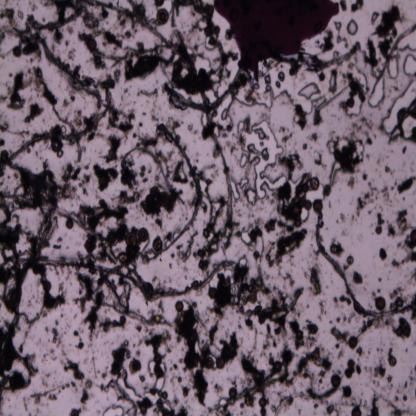Air bubble: (235, 113, 290, 201), (379, 78, 416, 132), (353, 48, 377, 89), (367, 75, 387, 109), (298, 82, 320, 100), (386, 53, 400, 80), (401, 53, 416, 77), (328, 160, 341, 185), (253, 126, 269, 140), (329, 69, 339, 91), (230, 179, 241, 198), (245, 188, 257, 204), (346, 19, 358, 35), (147, 358, 156, 377), (240, 232, 251, 246), (300, 206, 310, 221), (155, 376, 165, 391), (276, 69, 286, 83), (220, 108, 230, 121), (262, 148, 270, 163), (240, 151, 247, 168), (370, 11, 379, 24), (238, 255, 247, 266), (334, 20, 342, 31), (218, 398, 228, 406), (264, 75, 272, 84), (336, 36, 344, 43)
Background material: (0, 212, 66, 330), (0, 146, 67, 227), (96, 236, 155, 316), (165, 25, 218, 102), (172, 300, 216, 372), (0, 330, 39, 390), (0, 64, 51, 109), (263, 365, 308, 416), (101, 77, 137, 136), (233, 263, 276, 312), (120, 42, 170, 82), (70, 200, 133, 228), (168, 0, 217, 35), (194, 218, 235, 258), (267, 227, 308, 267), (138, 187, 184, 221), (244, 296, 290, 329), (77, 25, 109, 72), (234, 58, 266, 105), (292, 344, 335, 378), (237, 348, 268, 395), (154, 120, 188, 161), (82, 289, 107, 344), (372, 2, 407, 38), (390, 99, 416, 144), (107, 378, 136, 416), (209, 36, 233, 80), (212, 271, 234, 318), (333, 142, 365, 174), (109, 336, 132, 380), (72, 272, 96, 314), (174, 226, 202, 260), (384, 206, 413, 238), (379, 393, 416, 416), (391, 235, 416, 269), (356, 180, 378, 217), (91, 162, 118, 192), (0, 3, 18, 47), (336, 40, 364, 68), (80, 7, 105, 38), (302, 266, 324, 296), (263, 322, 290, 346), (192, 368, 210, 404), (168, 160, 190, 189), (30, 383, 60, 404), (100, 29, 125, 54), (118, 160, 138, 191), (131, 130, 160, 151), (361, 36, 380, 68), (60, 356, 85, 380), (21, 100, 48, 122), (70, 254, 98, 275), (232, 120, 249, 154), (222, 331, 240, 363), (304, 384, 336, 402), (137, 105, 160, 129), (83, 113, 105, 138), (45, 0, 79, 16), (263, 217, 295, 234), (287, 284, 304, 316), (102, 134, 121, 162), (43, 289, 66, 312), (143, 332, 165, 356), (367, 385, 384, 416), (0, 120, 29, 138), (106, 223, 132, 242), (314, 30, 336, 52), (156, 396, 180, 416), (23, 309, 47, 329), (292, 102, 309, 130), (181, 116, 199, 140), (394, 316, 412, 339), (131, 0, 150, 21), (59, 186, 81, 204), (378, 36, 396, 57), (135, 394, 152, 416), (98, 318, 121, 334), (77, 173, 92, 197), (62, 161, 79, 182), (329, 327, 351, 343), (280, 343, 296, 365), (200, 164, 219, 182), (273, 198, 292, 216), (328, 127, 341, 153), (84, 231, 100, 252), (163, 327, 175, 354), (22, 45, 41, 62), (397, 177, 416, 194), (262, 84, 278, 104), (380, 185, 394, 206), (303, 332, 320, 349), (100, 404, 124, 416), (0, 374, 8, 409), (371, 319, 394, 331), (373, 361, 387, 380), (303, 367, 317, 386), (136, 87, 160, 98), (208, 320, 219, 344), (89, 353, 99, 379), (317, 299, 328, 322), (356, 117, 374, 131), (312, 106, 324, 127), (213, 404, 234, 416), (387, 285, 403, 300), (50, 234, 64, 251), (152, 363, 167, 378), (141, 164, 152, 184), (78, 385, 89, 405), (199, 258, 211, 276), (120, 26, 135, 40), (218, 124, 233, 138), (70, 78, 82, 95), (383, 374, 394, 392), (53, 30, 65, 46), (253, 326, 261, 350), (66, 46, 78, 62), (406, 268, 416, 287), (110, 65, 121, 82), (410, 291, 416, 322), (320, 184, 333, 198), (243, 204, 256, 218), (282, 273, 295, 287), (350, 0, 364, 13), (336, 240, 346, 258), (334, 396, 349, 408), (374, 211, 385, 227), (378, 245, 388, 262), (314, 152, 326, 166), (357, 321, 369, 335), (352, 270, 364, 284), (289, 319, 300, 334), (339, 294, 352, 306), (342, 312, 354, 325), (349, 396, 363, 407), (62, 96, 76, 107), (52, 325, 60, 344), (41, 372, 52, 385), (170, 364, 177, 384), (156, 300, 166, 314), (302, 318, 312, 332), (353, 359, 362, 374), (180, 385, 191, 397), (245, 395, 255, 408), (347, 174, 355, 190), (99, 6, 108, 20), (59, 324, 70, 335), (366, 132, 374, 147), (172, 392, 180, 407), (68, 408, 83, 416), (16, 6, 26, 18), (102, 363, 110, 378), (338, 0, 348, 12), (156, 214, 164, 228), (310, 131, 320, 142), (214, 383, 224, 394), (312, 247, 322, 258), (389, 302, 400, 312), (361, 365, 373, 374), (122, 84, 130, 97), (410, 126, 416, 143), (256, 219, 262, 236), (178, 407, 189, 416), (30, 1, 39, 12), (295, 340, 304, 351), (407, 368, 414, 382), (387, 344, 394, 358), (23, 401, 30, 415), (362, 398, 368, 414), (356, 231, 364, 243), (97, 380, 105, 392), (46, 392, 58, 400), (232, 374, 239, 387), (333, 295, 340, 308), (60, 382, 70, 391), (400, 143, 408, 154), (331, 408, 342, 416), (174, 333, 182, 344), (73, 342, 84, 350), (301, 141, 310, 150), (340, 102, 348, 112), (70, 380, 78, 390), (386, 165, 396, 173), (317, 370, 327, 378), (56, 284, 66, 292), (396, 381, 402, 394), (337, 348, 344, 359), (56, 336, 63, 347), (61, 344, 67, 356), (358, 346, 364, 358), (340, 212, 346, 224), (350, 213, 357, 223), (236, 208, 243, 218), (344, 36, 349, 49), (206, 406, 214, 414), (333, 316, 341, 324), (195, 152, 200, 164), (367, 345, 372, 357), (403, 379, 409, 389), (67, 27, 74, 35), (136, 324, 143, 332), (377, 346, 384, 354), (62, 39, 69, 47), (152, 274, 158, 283), (73, 329, 79, 338), (340, 230, 350, 235), (236, 323, 243, 330), (181, 365, 188, 372), (343, 264, 350, 271), (376, 276, 383, 283), (376, 286, 382, 294), (44, 325, 49, 334), (42, 353, 47, 362), (392, 396, 399, 402), (54, 319, 60, 326), (40, 16, 46, 23), (313, 403, 320, 409), (373, 132, 378, 140), (327, 201, 332, 209), (370, 290, 376, 296), (139, 376, 145, 382), (0, 140, 6, 146), (365, 174, 370, 181), (403, 396, 408, 403), (366, 153, 371, 160), (305, 303, 310, 310), (179, 376, 183, 384), (170, 251, 174, 259), (50, 346, 54, 354), (132, 340, 136, 348), (236, 222, 240, 230), (411, 174, 416, 180), (235, 231, 240, 237), (183, 274, 188, 280), (335, 344, 341, 349), (136, 350, 141, 356), (390, 186, 396, 191), (318, 379, 323, 385), (138, 340, 142, 347), (60, 312, 64, 318), (266, 194, 269, 202), (22, 396, 26, 402), (377, 157, 380, 165), (159, 256, 162, 264), (271, 199, 275, 205), (413, 363, 416, 371), (414, 387, 416, 398), (377, 379, 380, 386), (335, 219, 339, 224), (394, 180, 398, 185), (327, 320, 332, 324), (52, 356, 57, 360), (180, 359, 184, 364), (240, 410, 243, 416), (242, 225, 245, 231), (373, 379, 376, 385), (338, 370, 342, 374), (298, 410, 302, 414), (405, 348, 408, 353), (402, 197, 405, 201), (182, 347, 184, 352), (170, 263, 172, 268), (80, 339, 82, 341), (143, 323, 145, 324)
Cellulose filter fibre: (314, 214, 410, 319), (18, 27, 104, 112), (9, 92, 113, 159), (199, 92, 235, 229), (159, 66, 242, 110), (150, 258, 236, 300), (95, 0, 165, 41), (374, 24, 416, 90), (110, 294, 168, 327), (52, 102, 82, 160), (28, 14, 84, 28), (94, 50, 127, 60)
Diatom: (156, 7, 170, 25), (86, 214, 99, 228), (129, 359, 141, 374), (126, 233, 138, 247), (117, 250, 128, 264), (312, 199, 323, 213), (330, 374, 342, 386), (138, 229, 151, 240), (292, 203, 302, 217), (153, 237, 163, 251), (376, 296, 386, 310), (152, 353, 163, 365), (342, 385, 352, 398), (87, 39, 97, 52), (348, 336, 358, 349), (309, 178, 320, 189), (215, 356, 225, 368), (99, 177, 109, 189), (148, 186, 158, 198), (42, 279, 52, 291), (207, 286, 217, 298), (309, 322, 319, 334), (228, 387, 238, 399), (175, 300, 185, 312), (205, 357, 214, 369), (258, 397, 267, 408), (249, 229, 258, 240), (65, 219, 74, 230), (351, 407, 362, 416), (304, 199, 312, 211), (273, 361, 281, 373), (346, 98, 355, 108), (344, 368, 353, 378), (410, 229, 416, 244), (395, 297, 404, 307), (249, 292, 257, 303), (14, 46, 21, 58), (388, 357, 397, 366), (252, 250, 260, 260), (296, 330, 304, 340), (330, 244, 338, 254), (326, 404, 334, 414), (294, 218, 302, 227), (119, 315, 127, 324), (302, 183, 309, 193), (396, 328, 403, 338), (213, 25, 220, 35), (154, 0, 165, 6), (347, 360, 355, 368), (346, 256, 354, 264), (84, 380, 92, 388), (161, 391, 168, 399), (366, 320, 373, 327), (376, 226, 382, 234), (260, 408, 266, 415), (240, 402, 245, 408), (158, 390, 162, 396)
Microfibre: (118, 144, 185, 203)
Pen: (214, 0, 340, 62)
